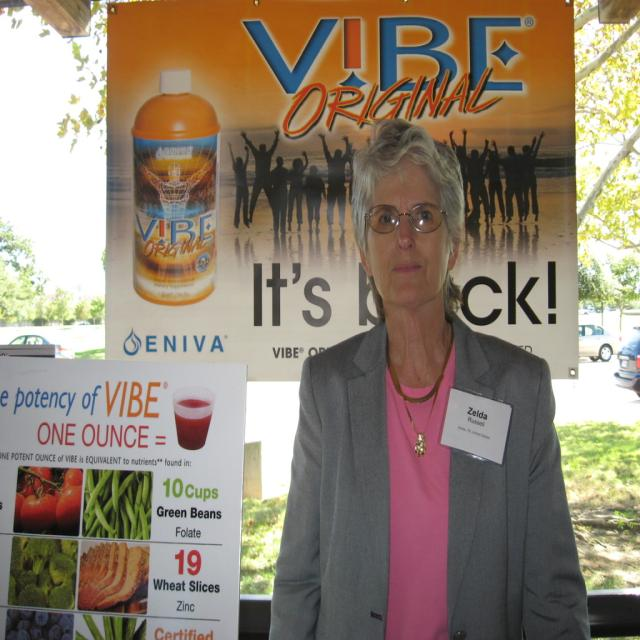no_helmet: (341, 158, 485, 314)
